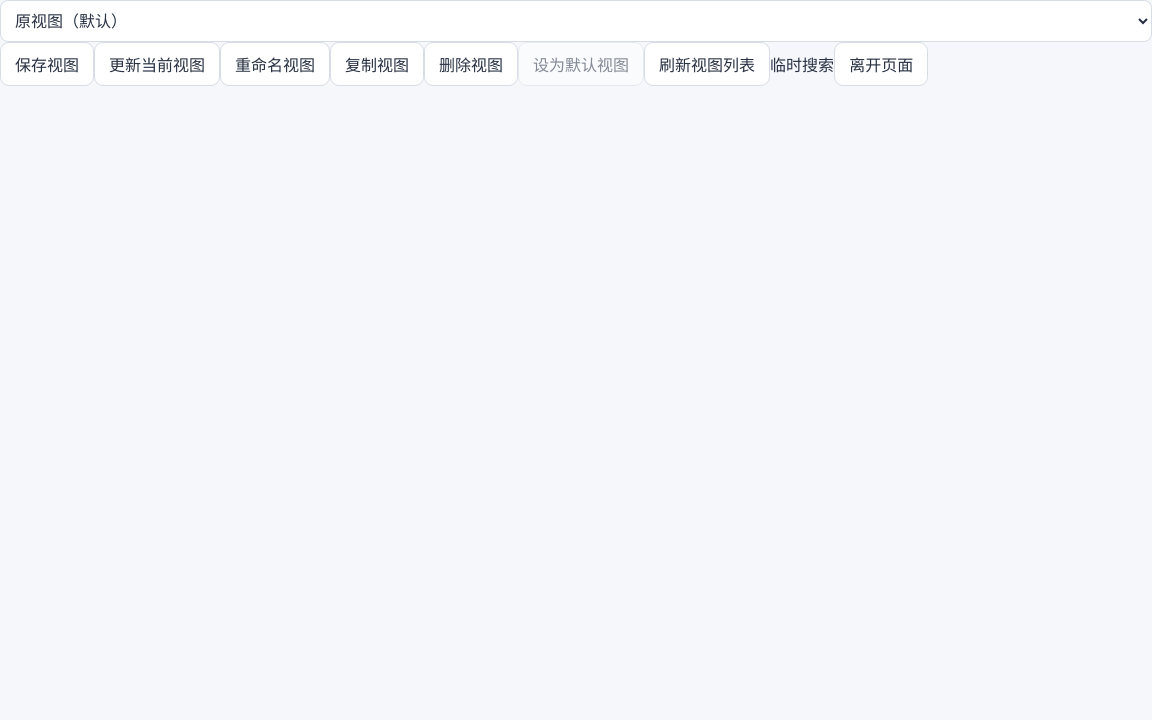
Test case: saved view management › renames and copies saved metadata without overwriting temporary layout, then changes the default
Click the button "重命名视图" at point(275, 64), box [220,42,330,86]
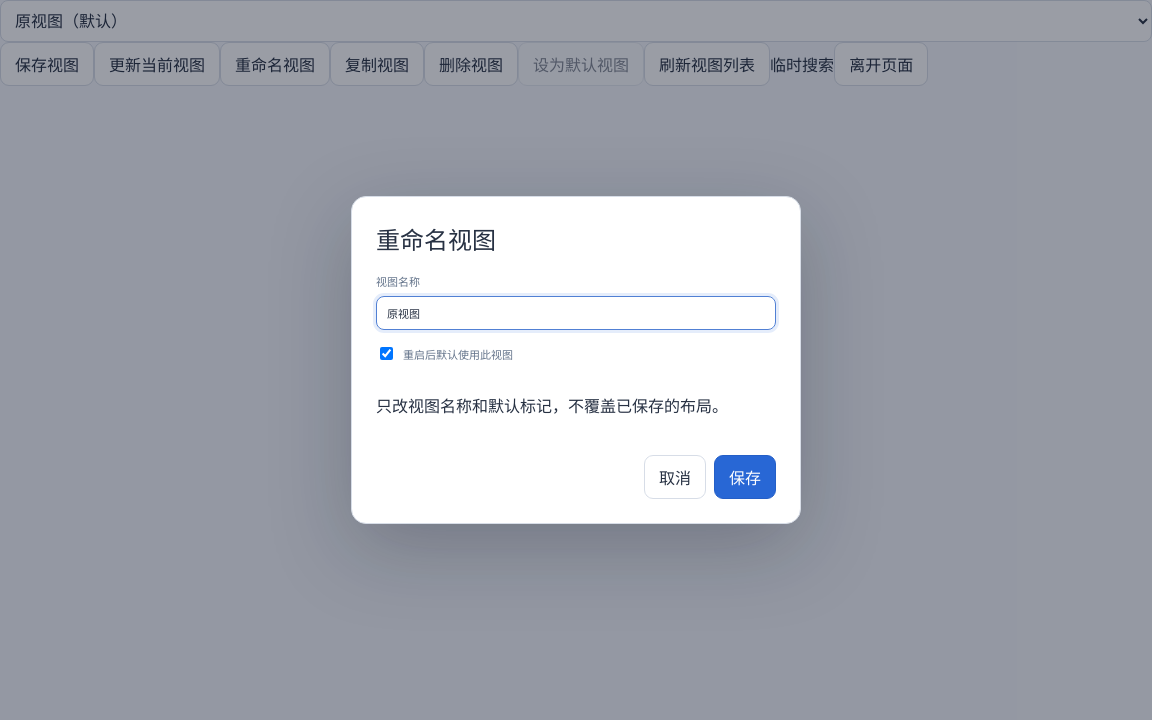
Replace the text in the field labelled "视图名称" with "新名字" at point(576, 313), box [376,296,776,330]
Click the button "保存" at point(745, 477), box [714,455,776,499]
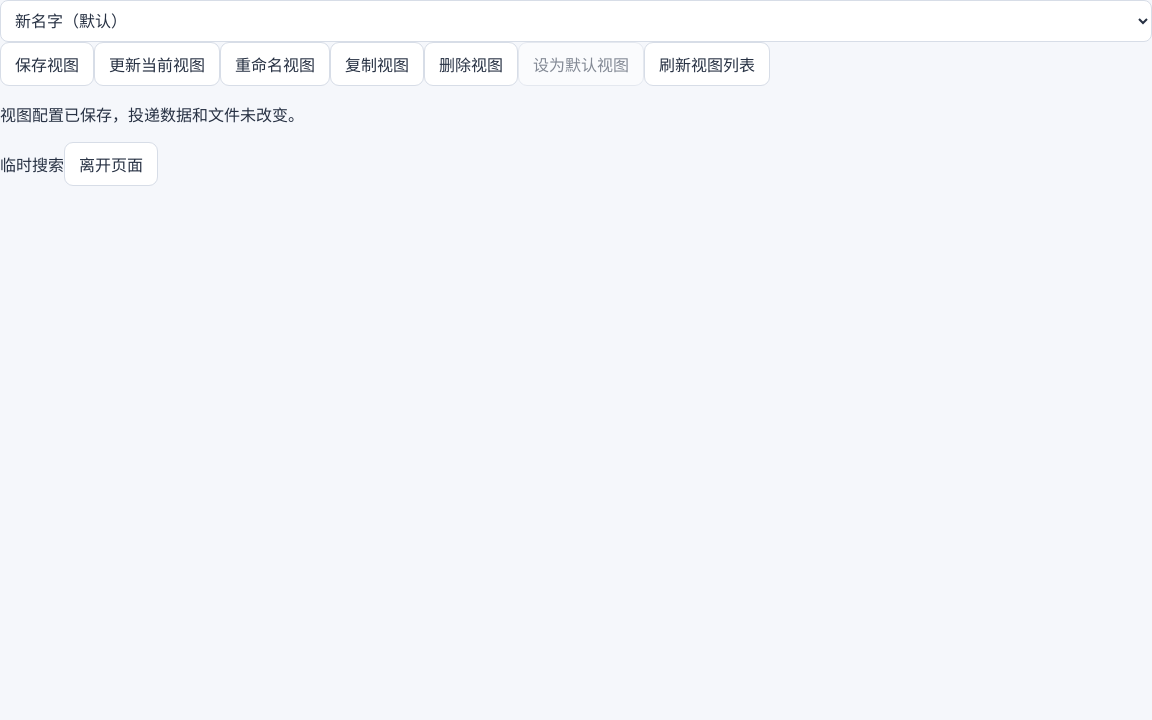
Expected: the text named "当前筛选" reads "临时搜索", [0,155,64,175]
Expected: the dialog is gone
Click the button "复制视图" at point(377, 64), box [330,42,424,86]
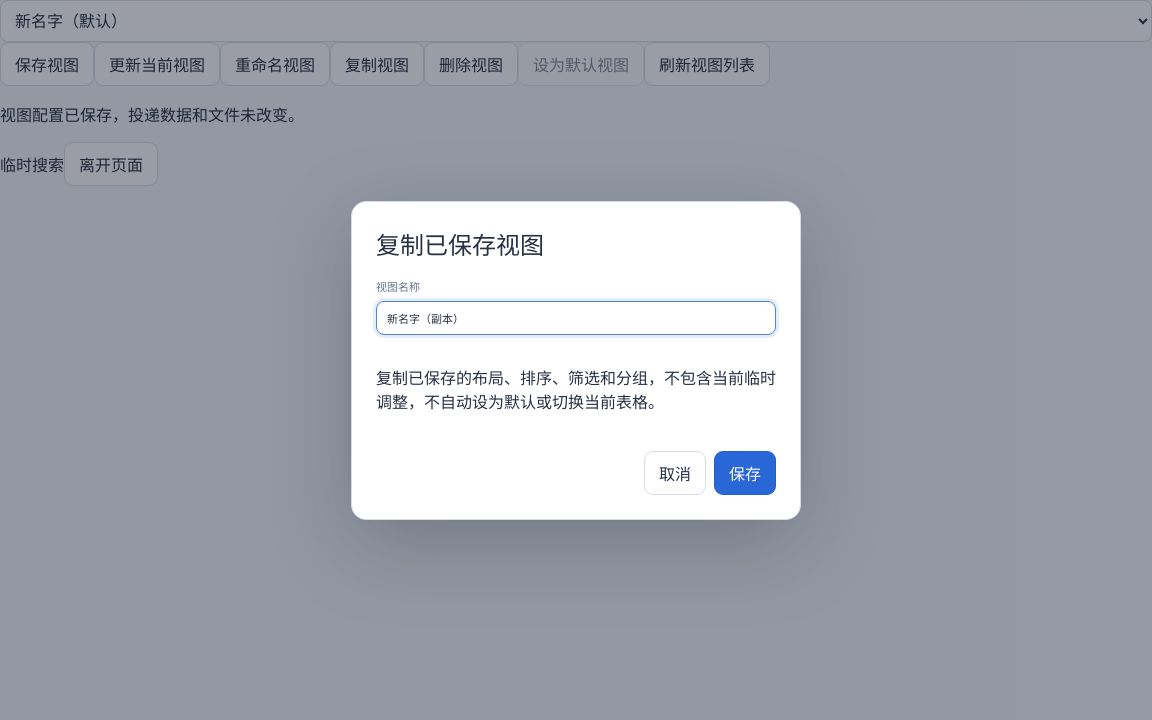
Expected: the text "复制已保存的布局、排序、筛选和分组，不包含当前临时调整，不自动设为默认或切换当前表格。" is shown, [376,364,776,412]
Replace the text in the field labelled "视图名称" with "副本" at point(576, 318), box [376,300,776,334]
Click the button "保存" at point(745, 472), box [714,450,776,494]
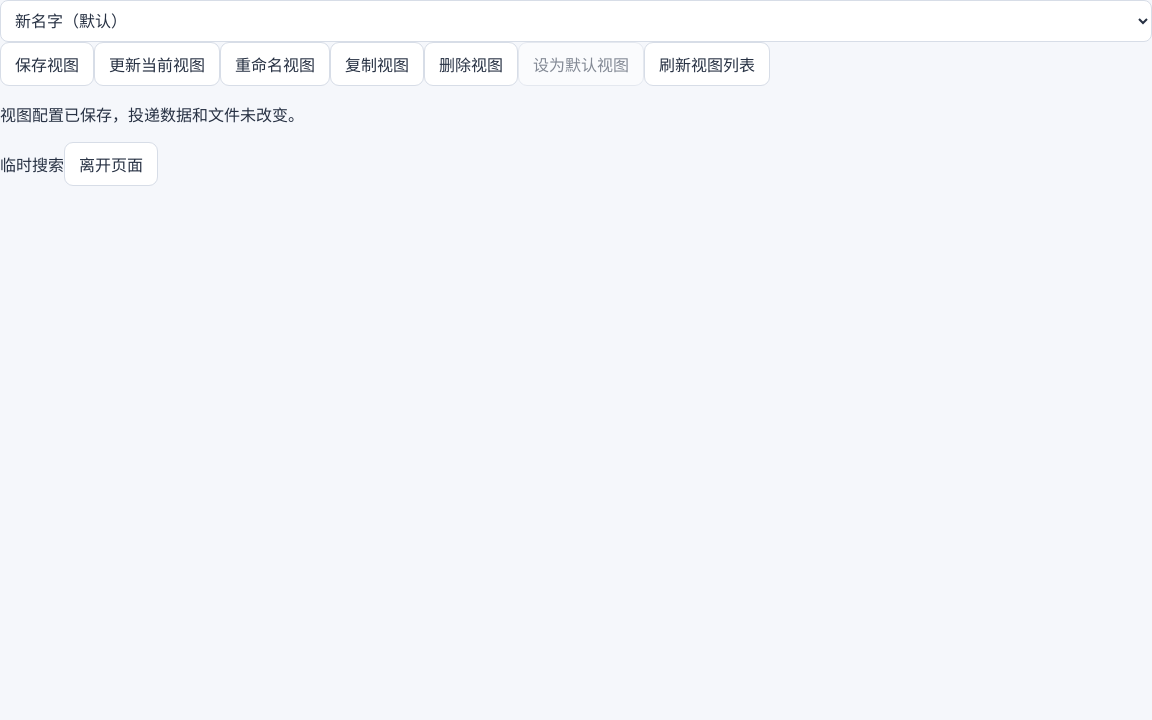
Expected: the text named "当前筛选" reads "临时搜索", [0,155,64,175]
Expected: the dropdown named "已保存视图" shows "新名字（默认）"
Expected: the dialog is gone
Select "副本" in the dropdown named "已保存视图" at point(576, 21), box [0,0,1151,42]
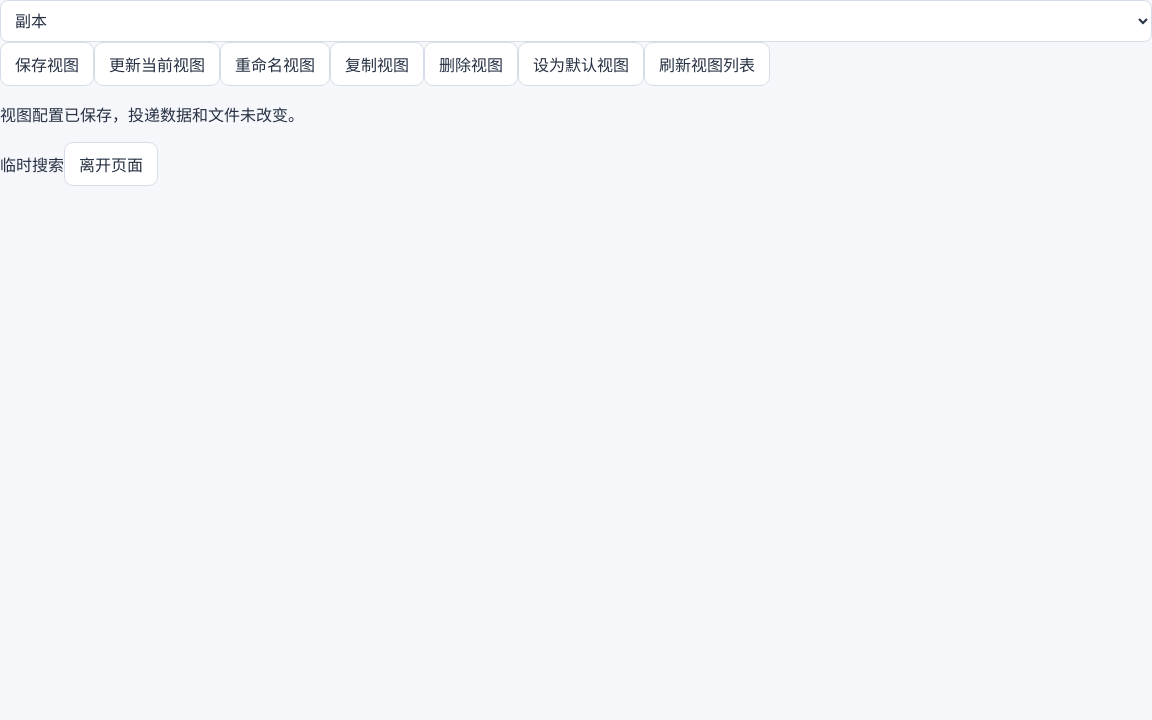
Click the button "设为默认视图" at point(581, 64), box [518,42,644,86]
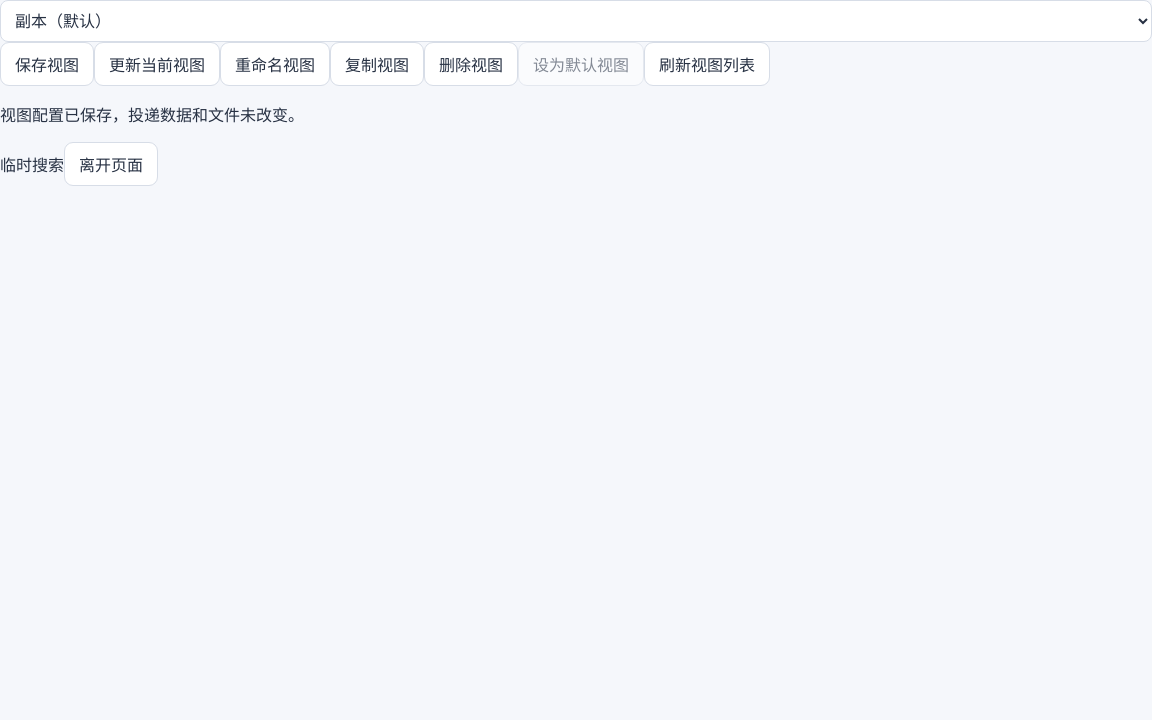
Expected: the button "设为默认视图" is disabled, [518,42,644,86]
